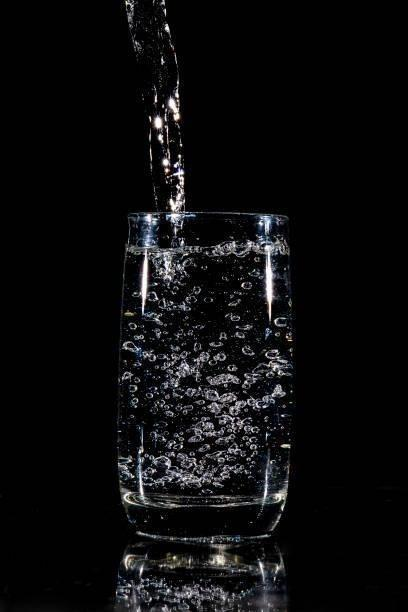glass-normal: (109, 205, 302, 543)
